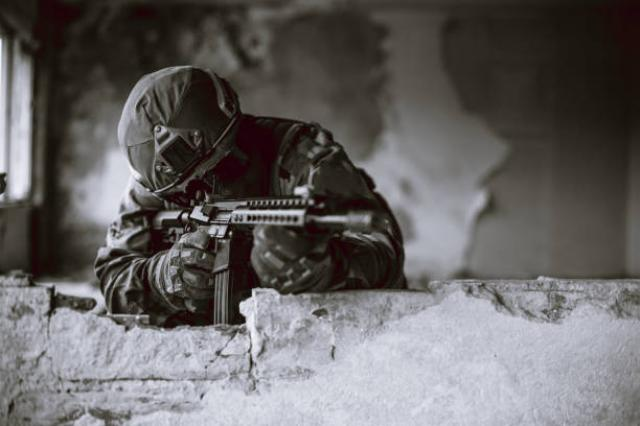other: (100, 68, 406, 287)
